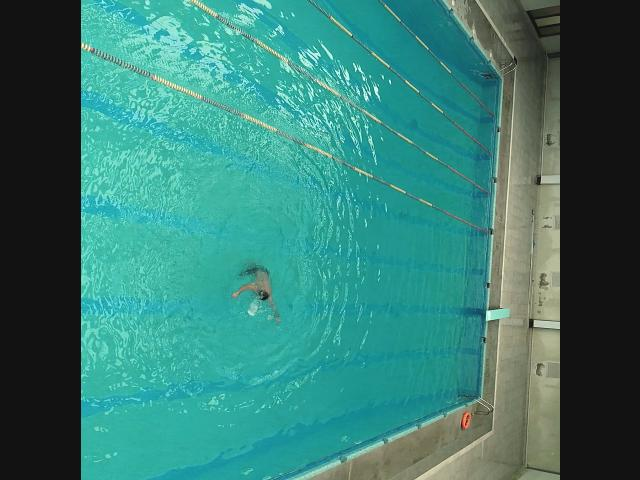drowning: (228, 260, 282, 324)
